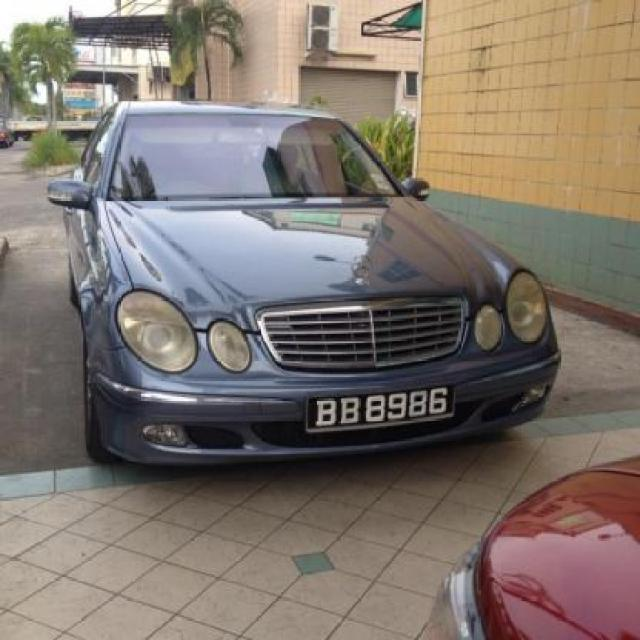License-Plates: (304, 377, 461, 433)
